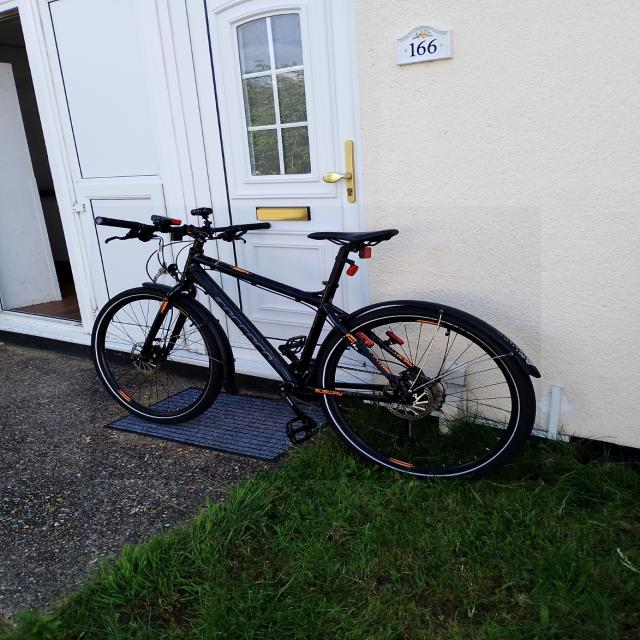bicycle: (90, 206, 541, 480)
